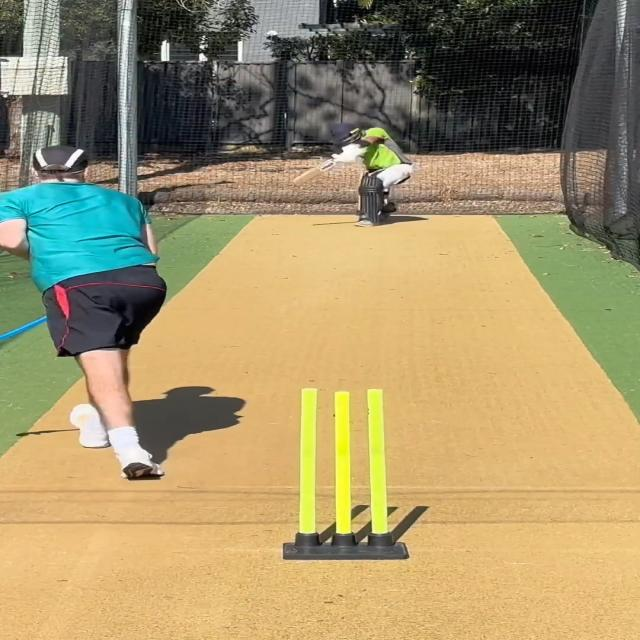stump: (280, 383, 413, 563)
